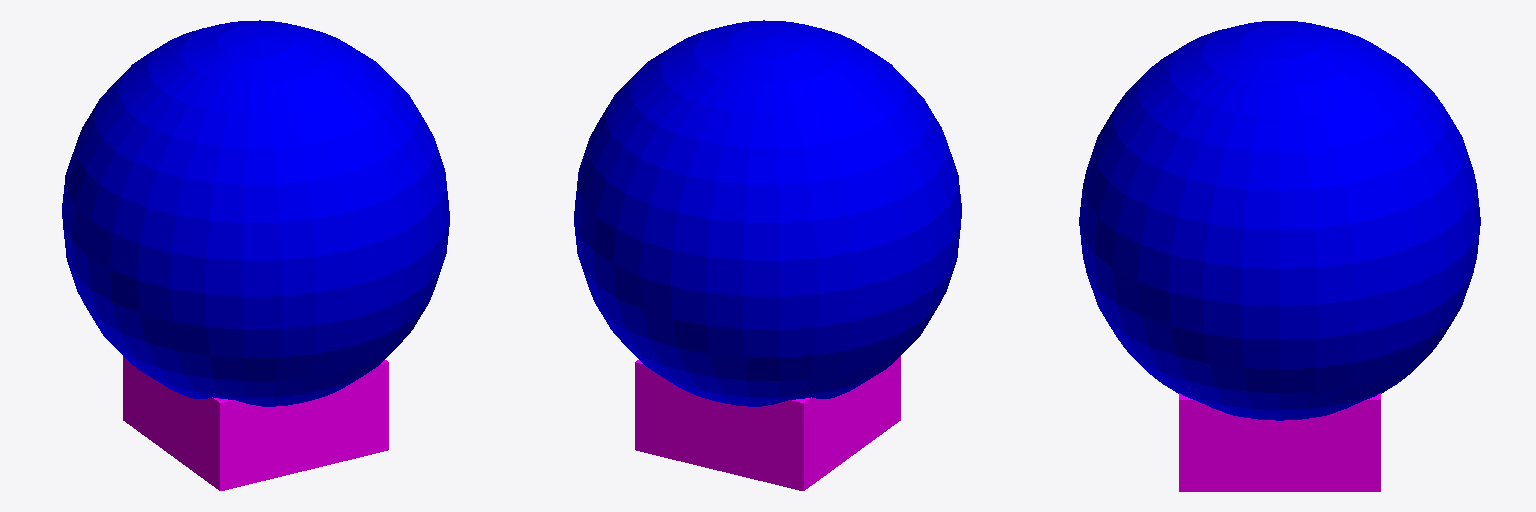
URDF robot description (material_tags):
<robot name="material_tags">
    <link name="link_name">
        <visual name="">
            <origin xyz="0.0 0.0 0.0" rpy="0.0 0.0 0.0"/>
            <geometry>
                <box size="0.1 0.1 0.05"/>
            </geometry>
            <material name="">
                <color rgba="1.0 0.0 1.0 1.0"/>
                <texture filename=""/>
            </material>
        </visual>
        <visual name="link2">
            <origin xyz="0.0 0.0 0.1" rpy="0.0 0.0 0.0"/>
            <geometry>
                <sphere radius="0.1"/>
            </geometry>
            <material name="blue"/>
        </visual>
    </link>

    <material name="blue">
        <color rgba="0.0 0.0 1.0 1.0"/>
    </material>
</robot>

--- Render facts (derived) ---
The picture shows the robot from 3 angles, left to right: view 1: azimuth 30°, elevation 25°; view 2: azimuth 150°, elevation 25°; view 3: azimuth 270°, elevation 25°; orthographic projection.
Robot: material_tags — 1 links, 0 joints (none); root link link_name; default pose: all joints at 0.
Links seen in each view (by area): view 1: link_name; view 2: link_name; view 3: link_name.
Link boxes in pixels (box(x1,y1,x2,y2)): link_name: box(62, 20, 449, 490); link_name: box(574, 20, 961, 490); link_name: box(1079, 21, 1480, 491).
Bounding box of the posed robot: 0.2 × 0.2 × 0.225 m (x, y, z).
Geometry: primitives only (box / cylinder / sphere), no mesh files.